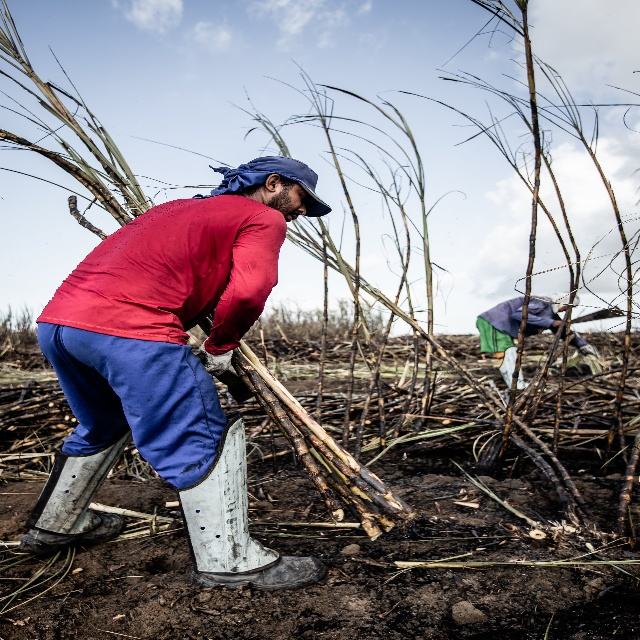Guantes: (198, 335, 233, 377)
